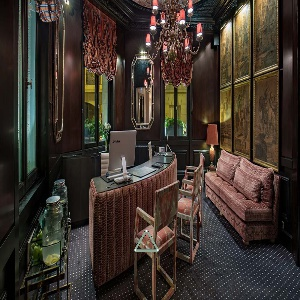triangle: (133, 228, 161, 255)
